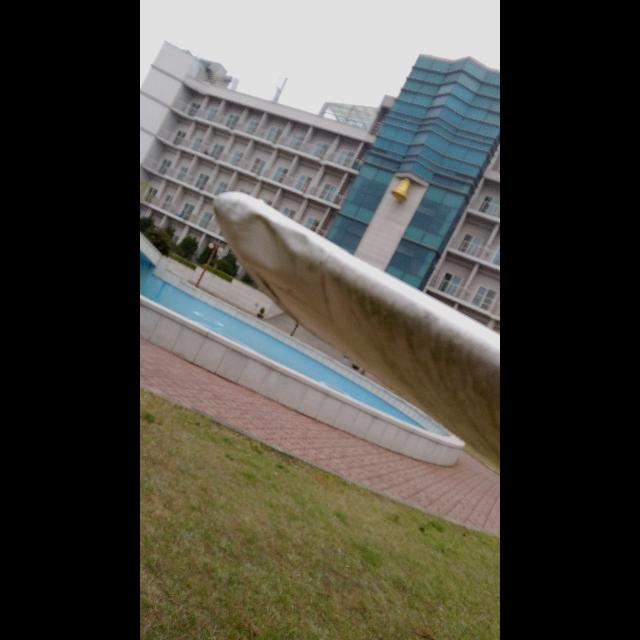dent: (230, 212, 290, 270), (286, 226, 314, 252)
